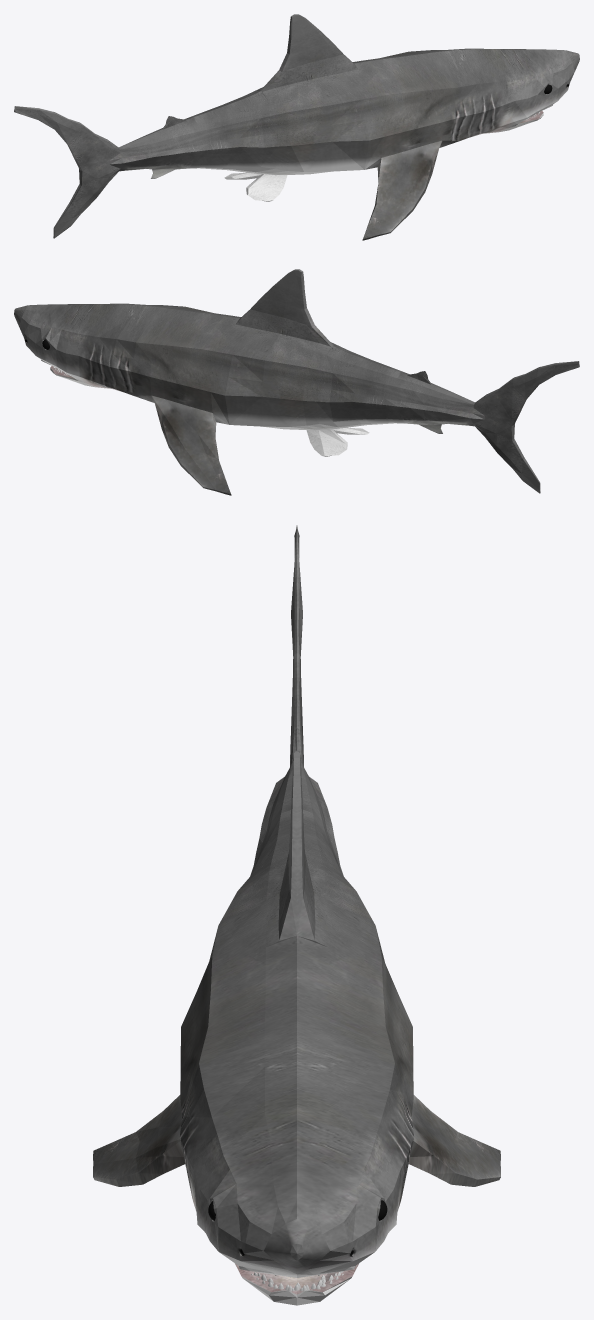
File: Shark.FBX
The picture shows the model from 3 angles, top to bottom: view 1: azimuth 30°, elevation 25°; view 2: azimuth 150°, elevation 25°; view 3: azimuth 270°, elevation 25°; orthographic projection. The views are drawn at different scales.
Visible parts, largest first — view 1: Shark; view 2: Shark; view 3: Shark.
Part boxes in pixels (x1,y1,x2,y2): Shark: [14, 14, 579, 240]; Shark: [14, 269, 579, 495]; Shark: [93, 525, 500, 1305].
Bounding box in the file's own units: 47.54 × 15.53 × 14.88.
3 materials, 1 textured.
